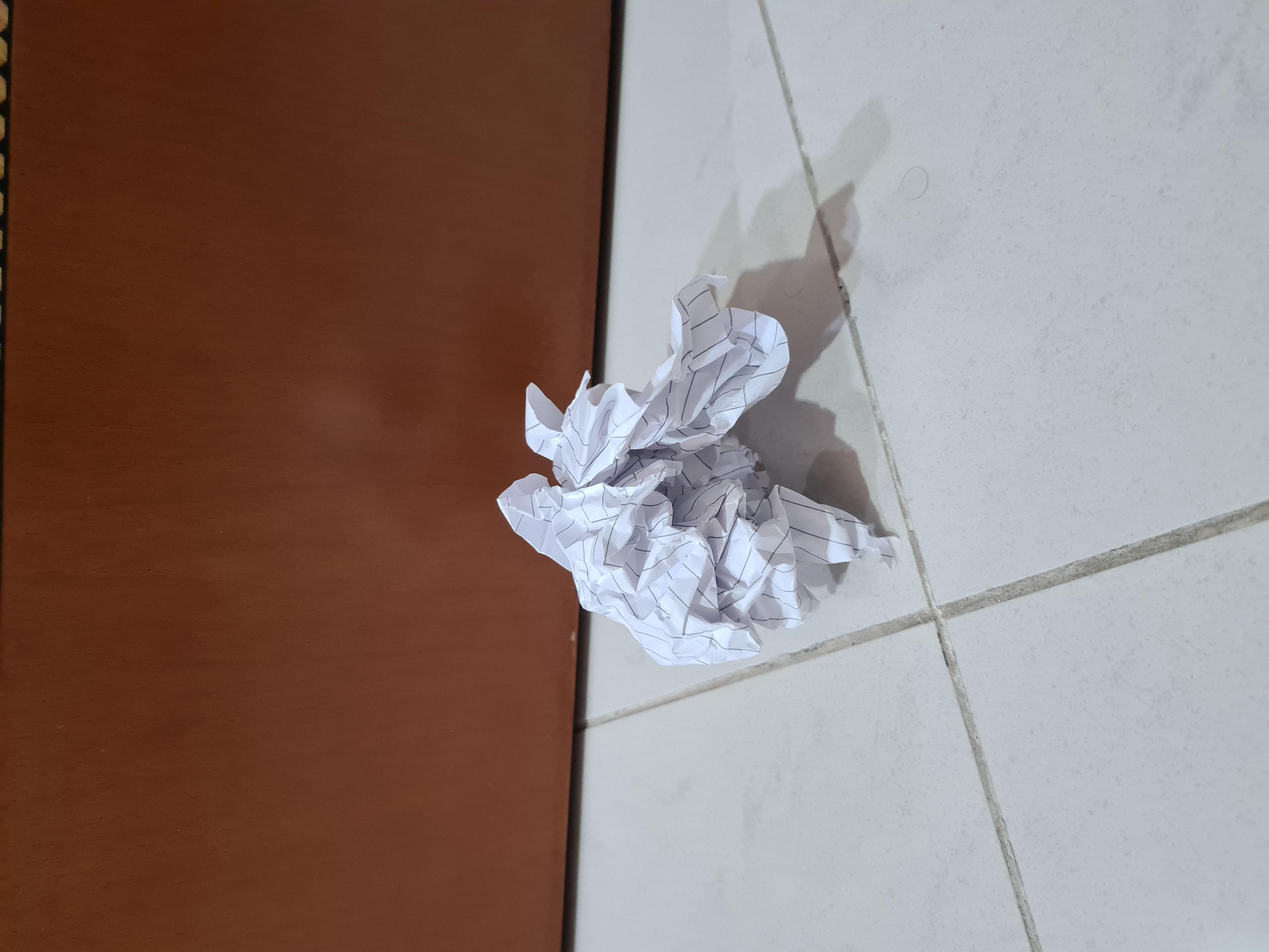paper: (395, 378, 854, 657)
